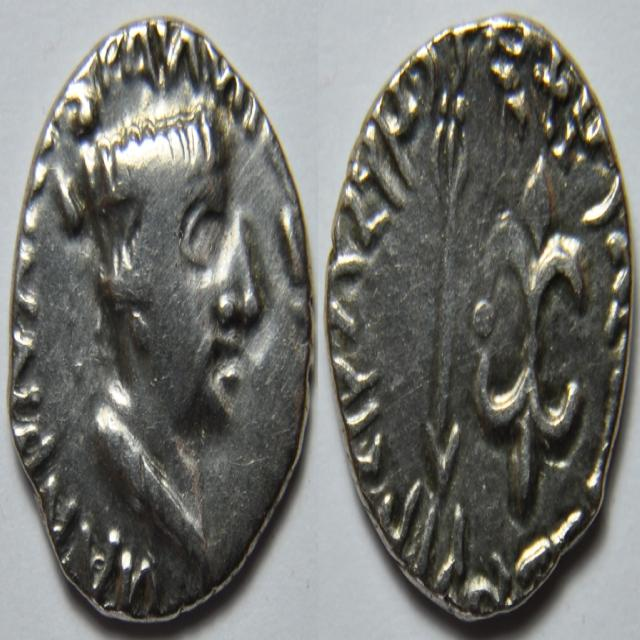Coin: (325, 10, 634, 626), (8, 16, 318, 621)
